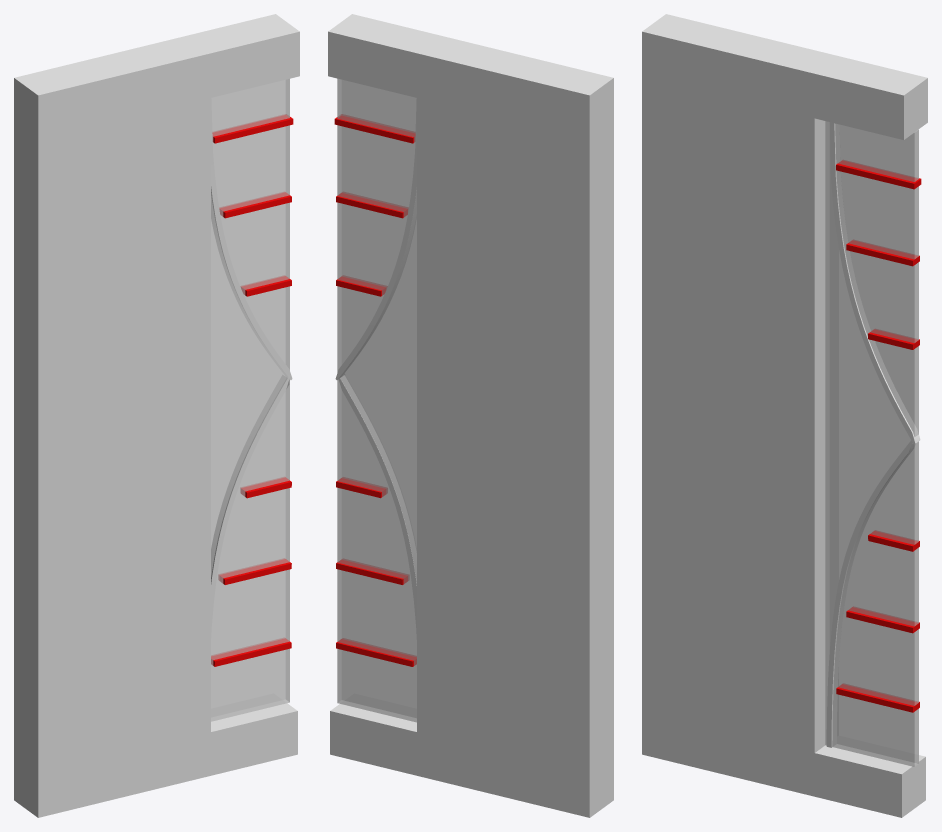
The model's file is Doorclosed.fbx.
3 renders of one model, left to right at view 1: azimuth 30°, elevation 25°; view 2: azimuth 150°, elevation 25°; view 3: azimuth 330°, elevation 25°, orthographic.
Visible parts, largest first — view 1: pCube6, pCube5, polySurface5, polySurface4, pasted__pCube4 (×2), pasted__pasted__pCube4 (×2), pCube4, pasted__pasted__pasted__pCube4; view 2: pCube6, pCube5, polySurface5, polySurface4, pasted__pCube4 (×2), pasted__pasted__pCube4 (×2), pCube4, pasted__pasted__pasted__pCube4; view 3: pCube6, pCube5, polySurface4, polySurface5, pasted__pCube4 (×2), pasted__pasted__pCube4 (×2), pCube4, pasted__pasted__pasted__pCube4.
Boxes of the visible parts, <box> form: pCube6: <box>14,14,299,817</box>; pCube5: <box>211,78,289,721</box>; polySurface5: <box>211,375,289,637</box>; polySurface4: <box>211,98,292,379</box>; pasted__pCube4 (×2): <box>212,115,293,584</box>; pasted__pasted__pCube4 (×2): <box>211,276,291,666</box>; pCube4: <box>219,192,291,218</box>; pasted__pasted__pasted__pCube4: <box>241,477,291,498</box>; pCube6: <box>328,14,613,817</box>; pCube5: <box>337,78,416,722</box>; polySurface5: <box>338,375,416,639</box>; polySurface4: <box>335,98,416,379</box>; pasted__pCube4 (×2): <box>334,115,415,584</box>; pasted__pasted__pCube4 (×2): <box>336,276,416,666</box>; pCube4: <box>336,193,407,218</box>; pasted__pasted__pasted__pCube4: <box>336,478,386,498</box>; pCube6: <box>642,14,927,817</box>; pCube5: <box>825,121,918,766</box>; polySurface4: <box>829,122,920,444</box>; polySurface5: <box>826,440,915,747</box>; pasted__pCube4 (×2): <box>836,160,921,633</box>; pasted__pasted__pCube4 (×2): <box>836,329,919,712</box>; pCube4: <box>846,240,919,266</box>; pasted__pasted__pasted__pCube4: <box>868,531,919,551</box>.
Size of the model in its own units: 6.33 by 16.56 by 1.
Materials: 4 (3 with a texture image).
